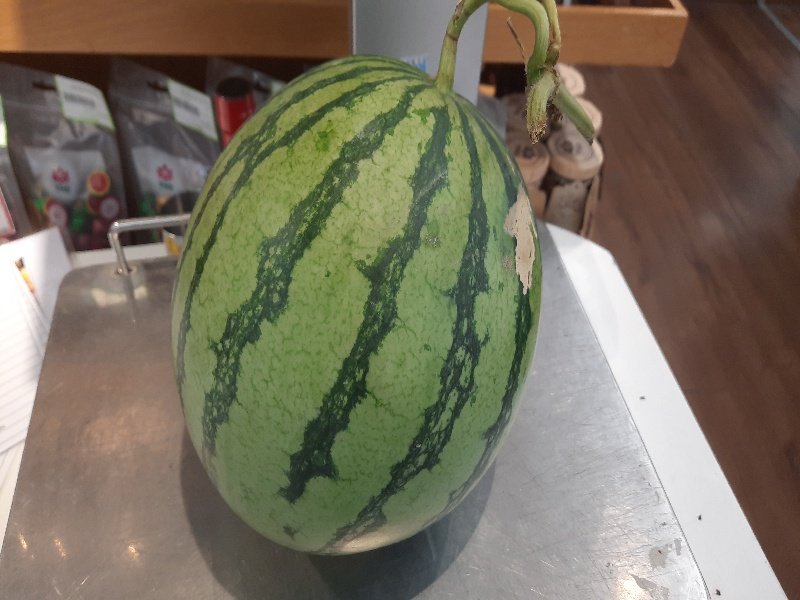fruit: (169, 5, 599, 562)
